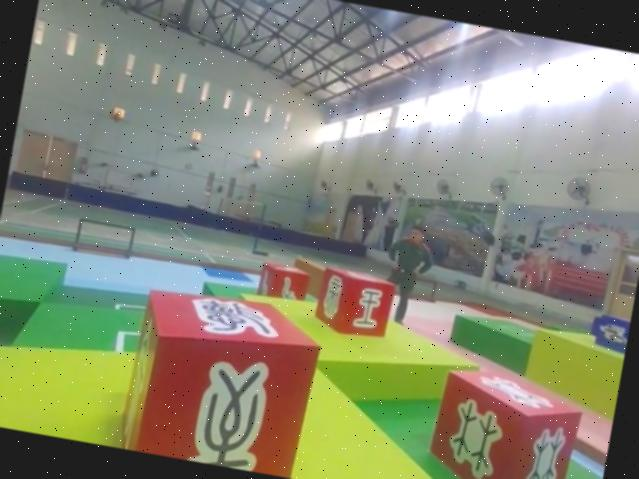R2 Fake: (115, 277, 329, 479), (309, 263, 399, 340)
R2 Real: (420, 367, 588, 479), (253, 258, 312, 309)
